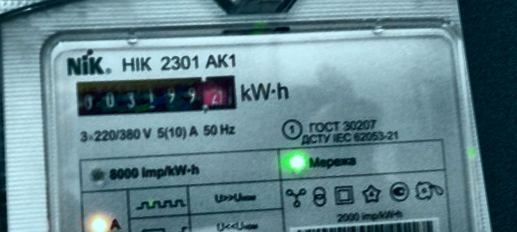0: (80, 90, 95, 111), (103, 88, 116, 108)
1: (144, 83, 156, 103)
3: (124, 89, 136, 109)
6: (208, 91, 220, 108)
9: (185, 85, 198, 104), (165, 84, 176, 103)
screen: (67, 54, 247, 139)
